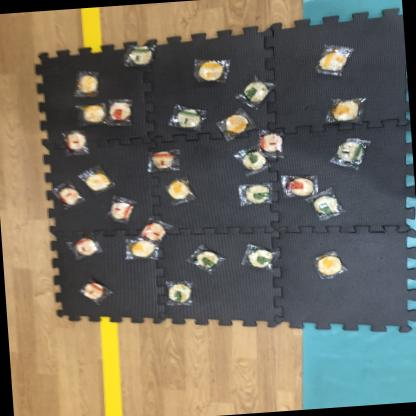green_setoshio: (234, 74, 277, 110), (167, 103, 213, 134), (235, 241, 279, 273), (328, 138, 368, 172), (303, 194, 347, 223), (186, 242, 225, 274), (119, 42, 159, 70), (237, 180, 275, 209), (234, 148, 268, 178), (165, 279, 196, 309)
red_setoshio: (142, 146, 182, 174), (279, 172, 319, 198), (105, 193, 137, 225), (78, 278, 112, 306), (60, 127, 90, 158), (138, 215, 172, 242), (67, 235, 103, 260), (104, 98, 135, 127), (254, 130, 286, 158), (54, 181, 84, 210)
yellow_setoshio: (308, 39, 356, 80), (324, 92, 372, 128), (188, 54, 232, 86), (214, 110, 255, 143), (312, 248, 348, 282), (161, 175, 198, 206), (68, 68, 102, 100), (80, 164, 115, 194), (124, 238, 160, 263), (75, 100, 110, 125)
